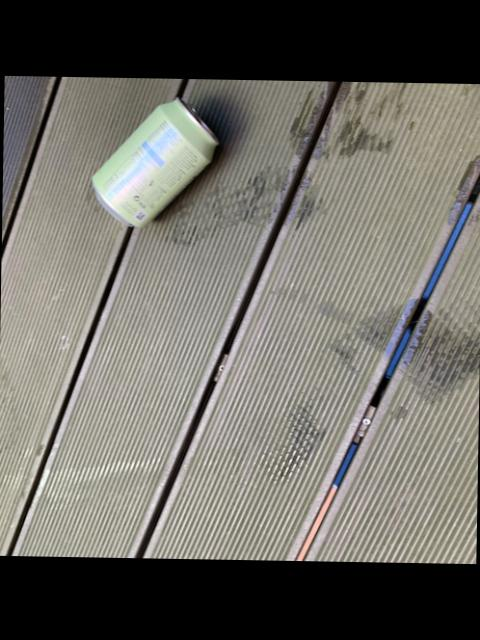metal: (91, 99, 216, 228)
